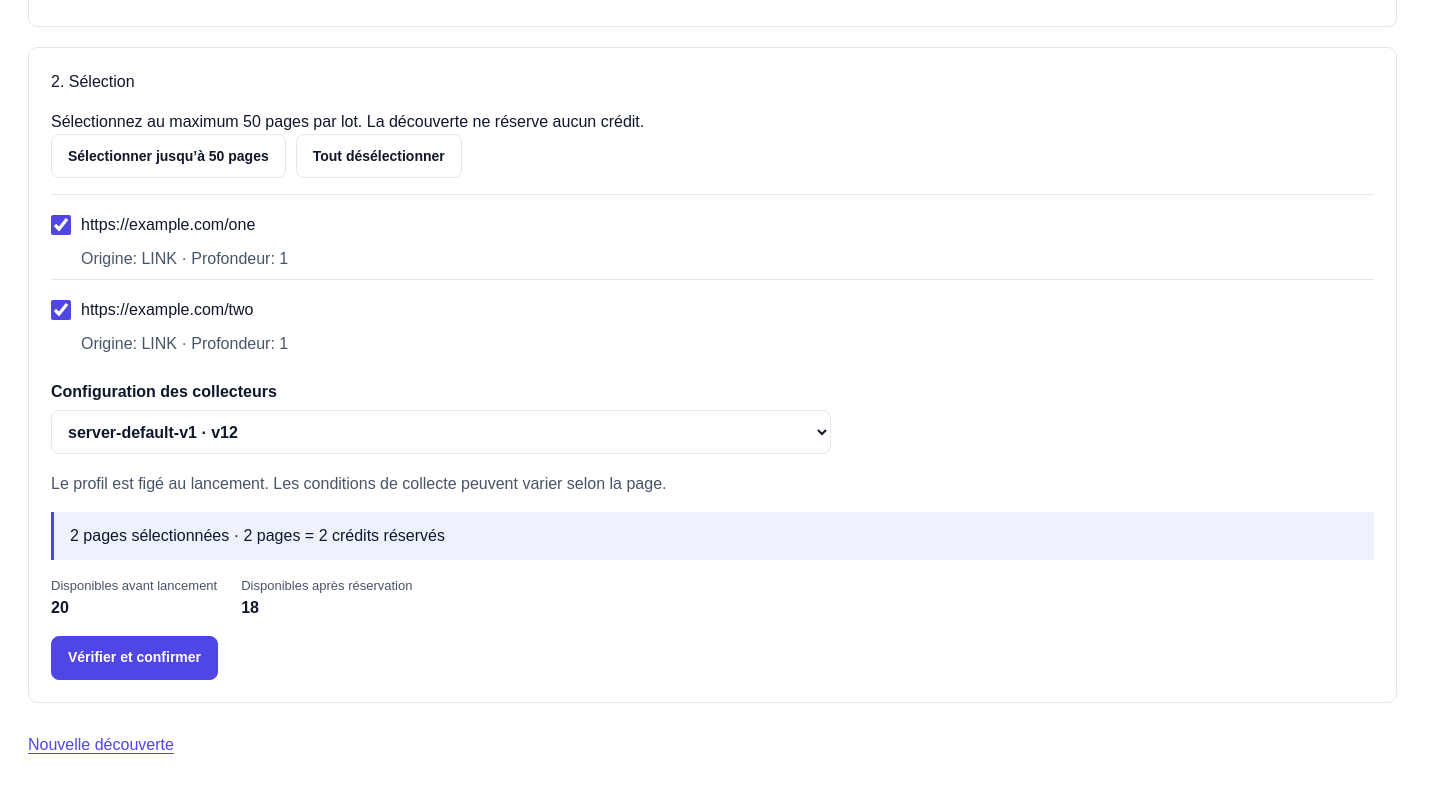
Test: shows confirmation in the modal and restores selection and focus when closed
(page scrolled)
Click the button "Vérifier et confirmer". click: (135,658)
box: left=51, top=636, right=218, bottom=680
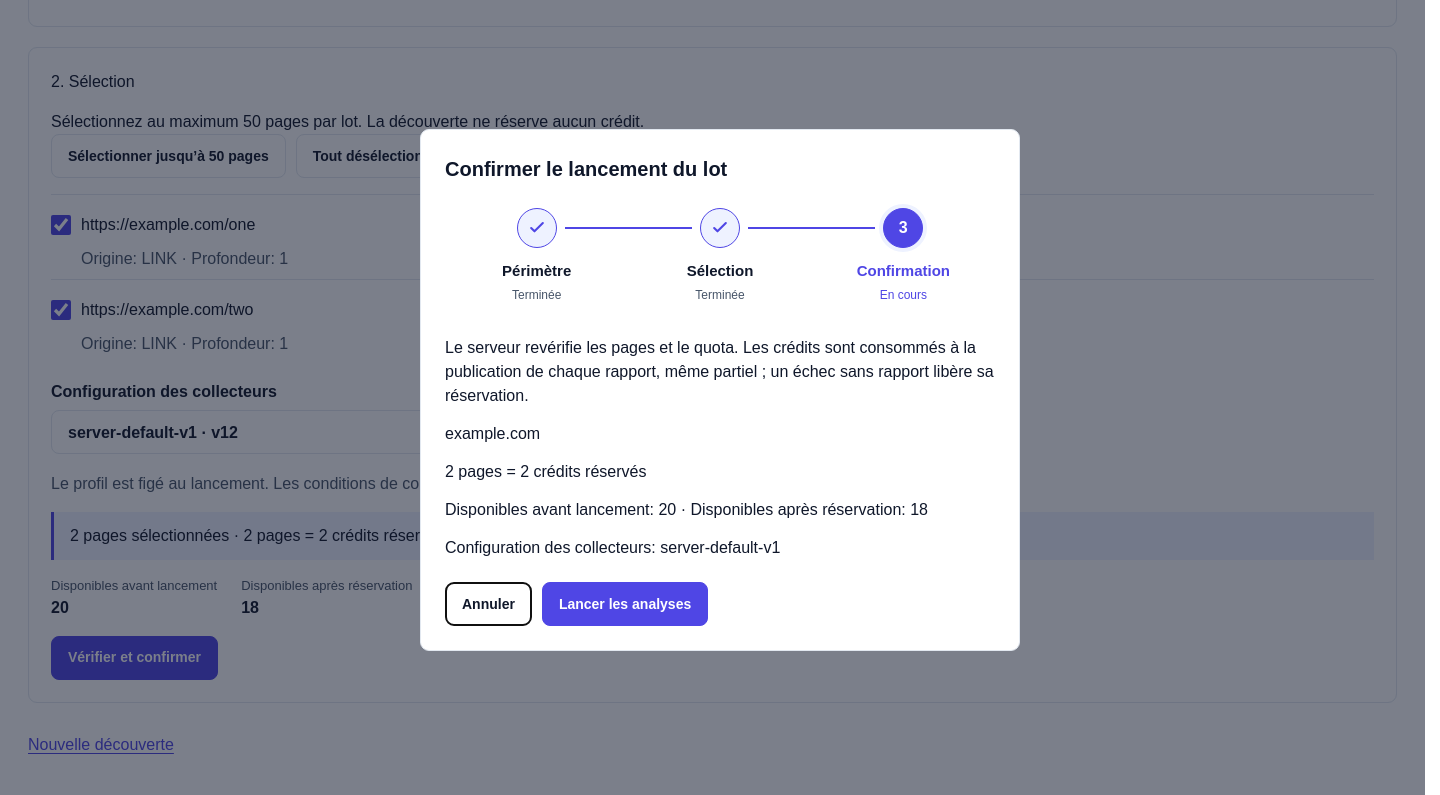
Expected: the list item "3 Confirmation En cours" is shown, left=857, top=208, right=950, bottom=302
Expected: the text "Terminée" is shown 2 times, left=512, top=288, right=561, bottom=302; left=695, top=288, right=745, bottom=302
Click the button "Annuler". click: (488,604)
box: left=445, top=582, right=532, bottom=626
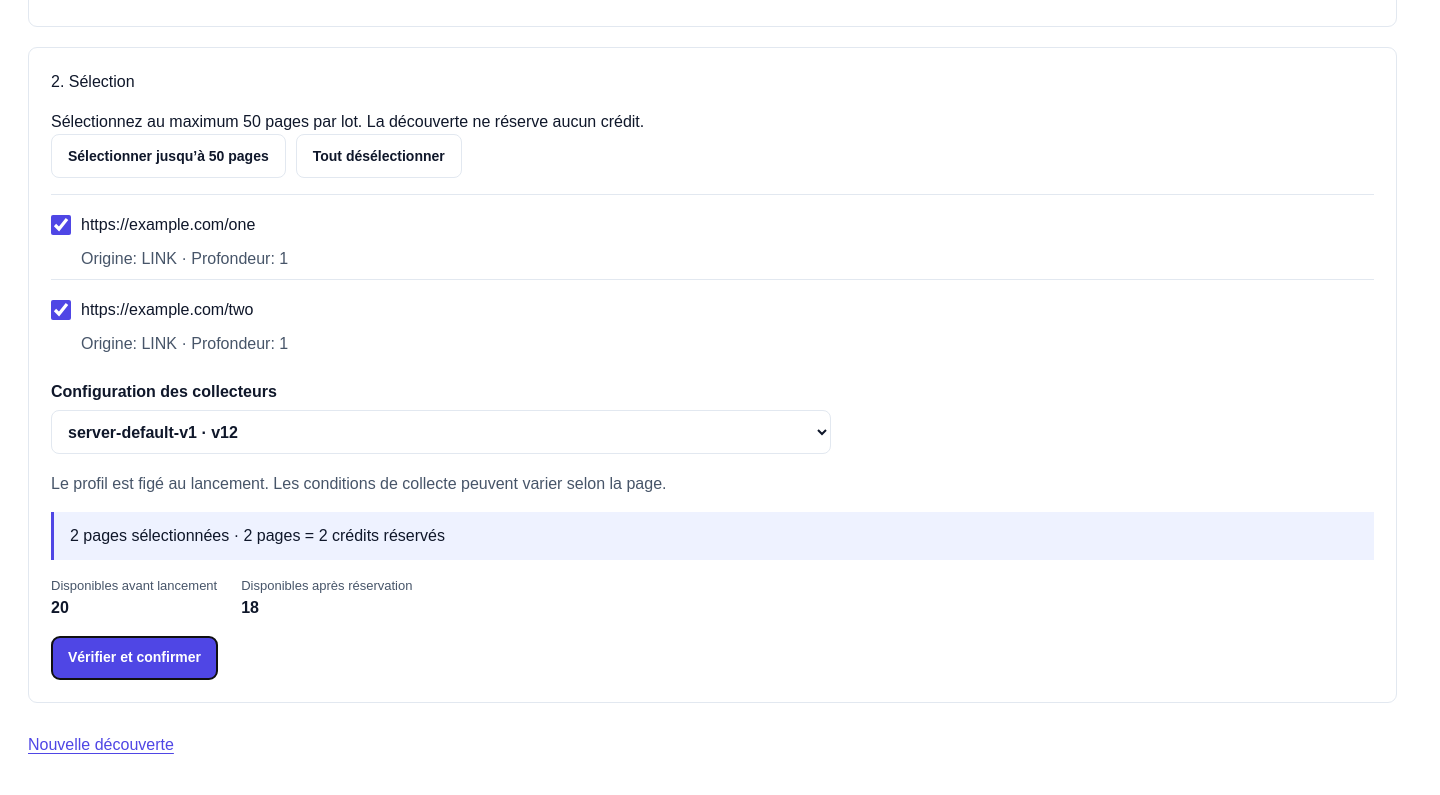
Expected: the number of checkboxes is 2, left=51, top=215, right=71, bottom=235; left=51, top=300, right=71, bottom=320
Expected: the dialog is gone
